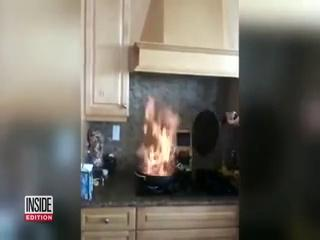Fire: (136, 93, 186, 177)
